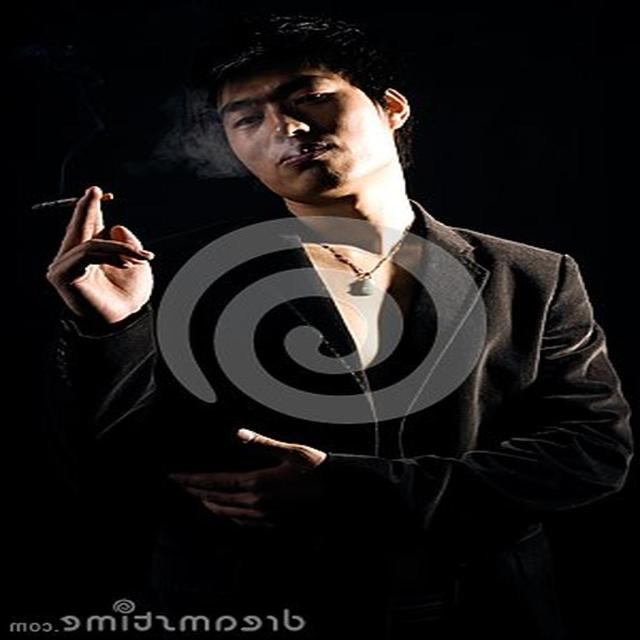smoking: (24, 15, 431, 323)
